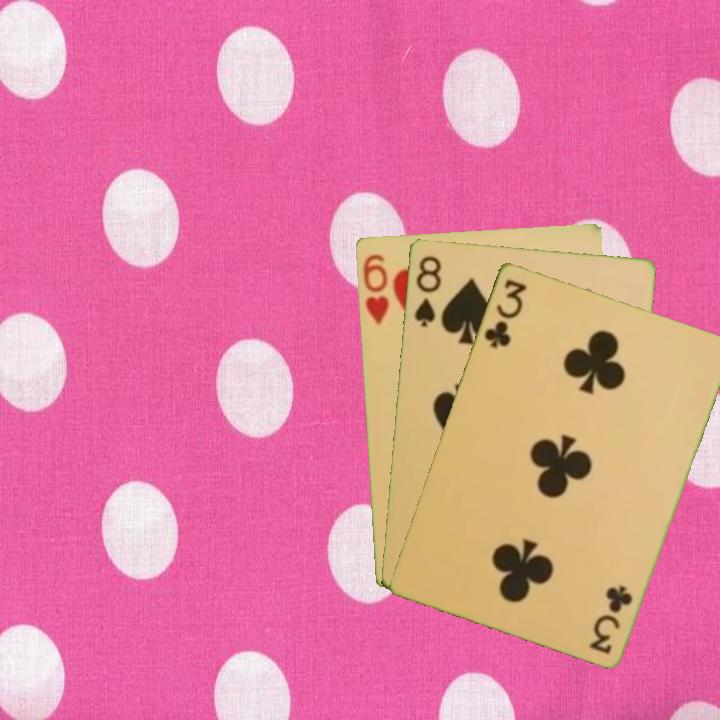3c: (480, 275, 529, 350), (588, 581, 635, 657)
6h: (359, 250, 392, 327)
8s: (410, 252, 444, 329)
